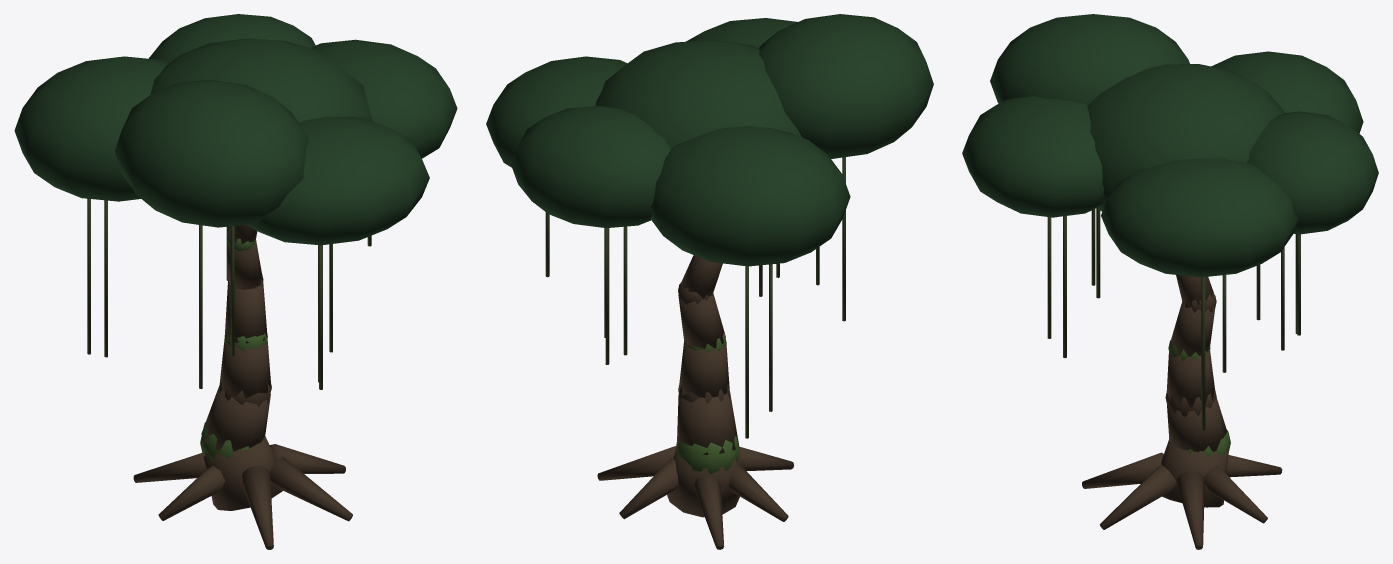
Rendered from prop_pohon_larangan_a.glb.
3 renders of one model, left to right at view 1: azimuth 30°, elevation 25°; view 2: azimuth 150°, elevation 25°; view 3: azimuth 270°, elevation 25°, orthographic. The views are drawn at different scales.
Parts seen in each view (by area): view 1: pohon_larangan_a; view 2: pohon_larangan_a; view 3: pohon_larangan_a.
Boxes of the visible parts, bbox=[...] form: pohon_larangan_a: bbox=[14, 14, 457, 549]; pohon_larangan_a: bbox=[486, 14, 933, 549]; pohon_larangan_a: bbox=[962, 14, 1378, 549].
Size of the model in its own units: 8.43 by 9.93 by 8.47.
